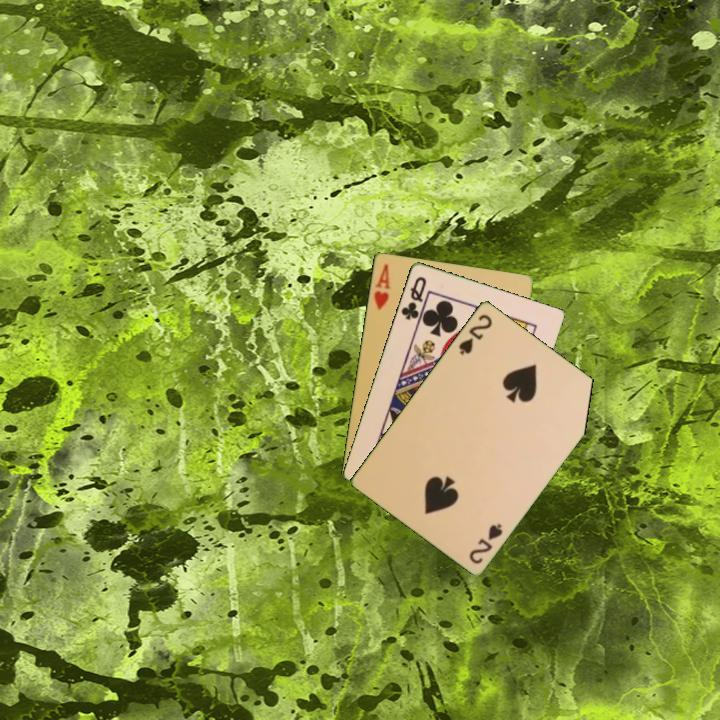2s: (455, 310, 495, 358), (465, 519, 505, 567)
Ah: (370, 260, 393, 313)
Qc: (397, 272, 429, 322)
